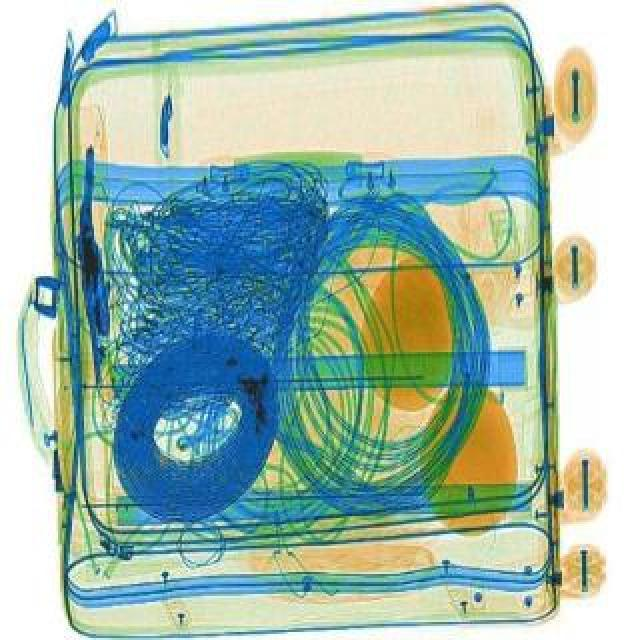gun: (70, 140, 114, 376)
